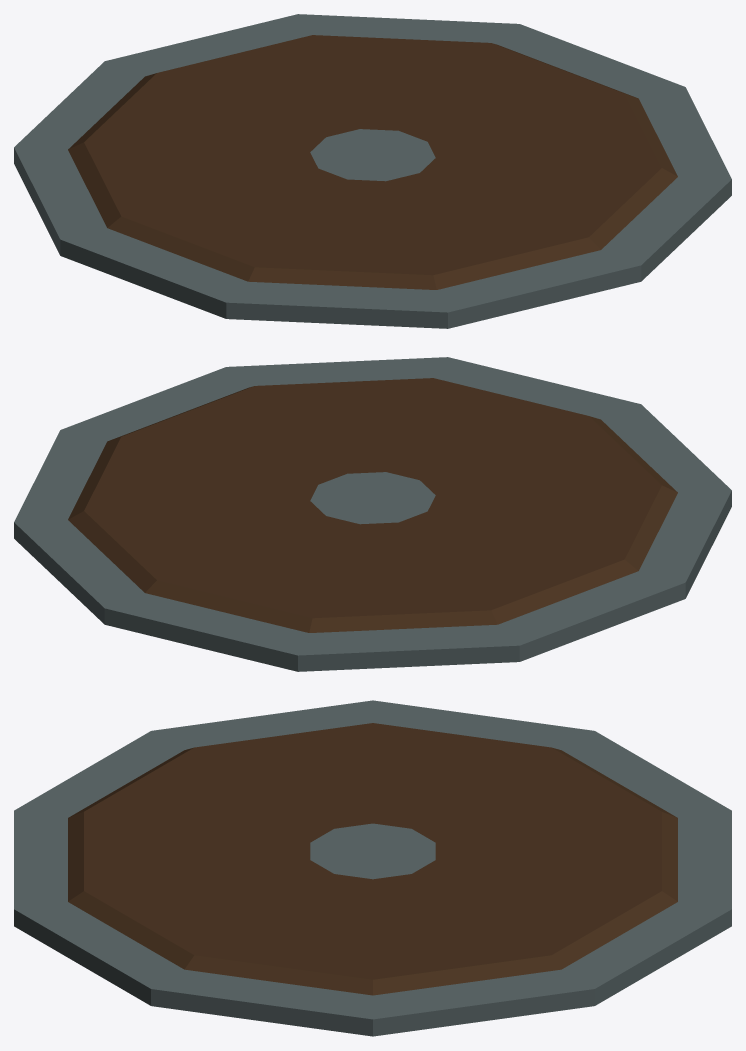
File: Shield_1_Dark_Brown.fbx
The picture shows the model from 3 angles, top to bottom: view 1: azimuth 30°, elevation 25°; view 2: azimuth 150°, elevation 25°; view 3: azimuth 270°, elevation 25°; orthographic projection. The views are drawn at different scales.
Parts seen in each view (by area): view 1: Shield_1_Dark_Brown; view 2: Shield_1_Dark_Brown; view 3: Shield_1_Dark_Brown.
Boxes of the visible parts, <box> form: Shield_1_Dark_Brown: <box>14,14,731,328</box>; Shield_1_Dark_Brown: <box>14,357,731,671</box>; Shield_1_Dark_Brown: <box>14,700,731,1036</box>.
Size of the model in its own units: 200 by 7.5 by 190.
